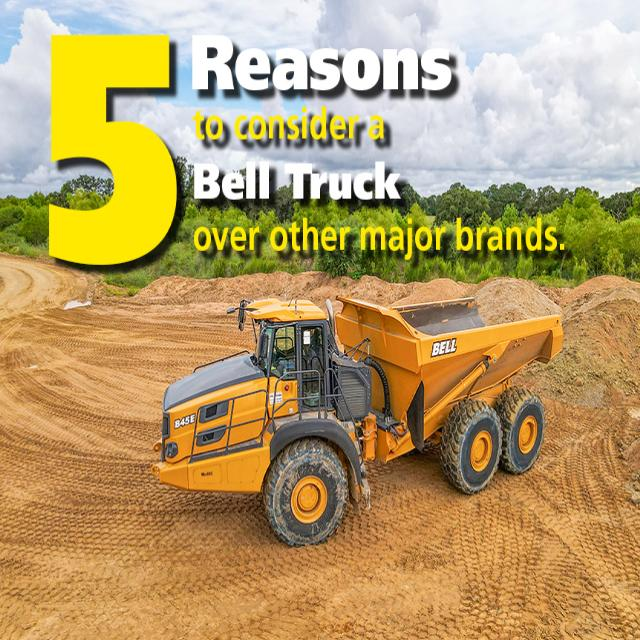dump_truck: (141, 284, 562, 554)
